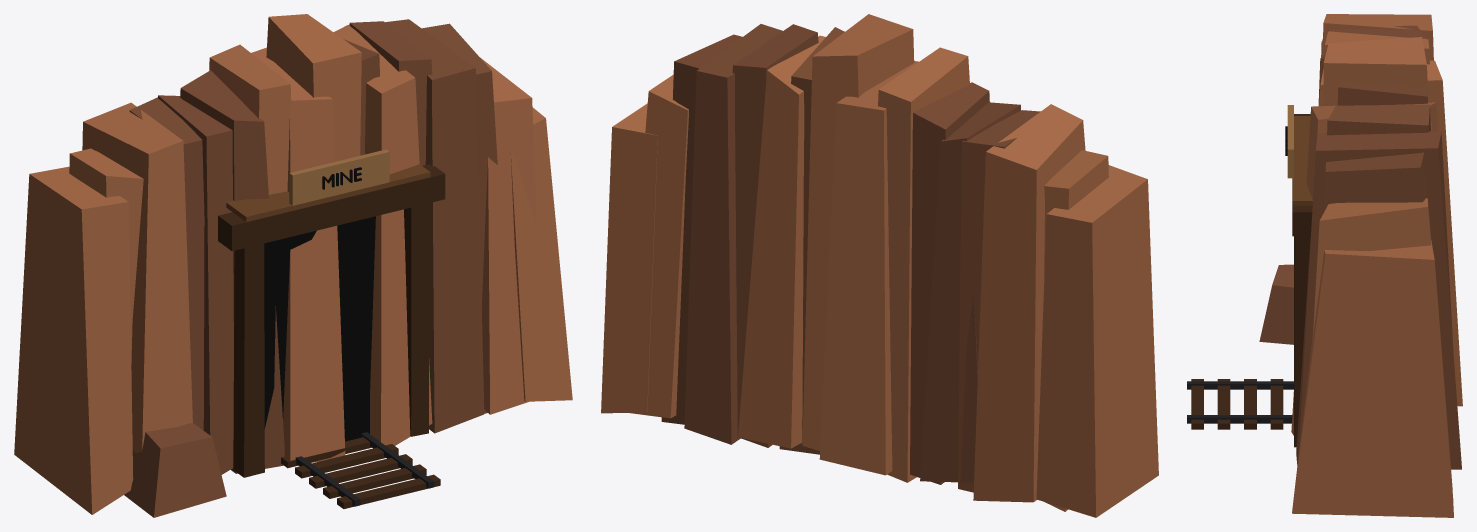
Rendered from SM_Mine_Entrance.obj.
The picture shows the model from 3 angles, left to right: view 1: azimuth 30°, elevation 25°; view 2: azimuth 150°, elevation 25°; view 3: azimuth 270°, elevation 25°; orthographic projection. The views are drawn at different scales.
Parts seen in each view (by area): view 1: SM_Mine_Entrance; view 2: SM_Mine_Entrance; view 3: SM_Mine_Entrance.
Part boxes in pixels (x1,y1,x2,y2): SM_Mine_Entrance: (14, 14, 572, 517); SM_Mine_Entrance: (601, 14, 1158, 517); SM_Mine_Entrance: (1187, 14, 1462, 517).
Bounding box in the file's own units: 4.94 × 3.91 × 2.61.
